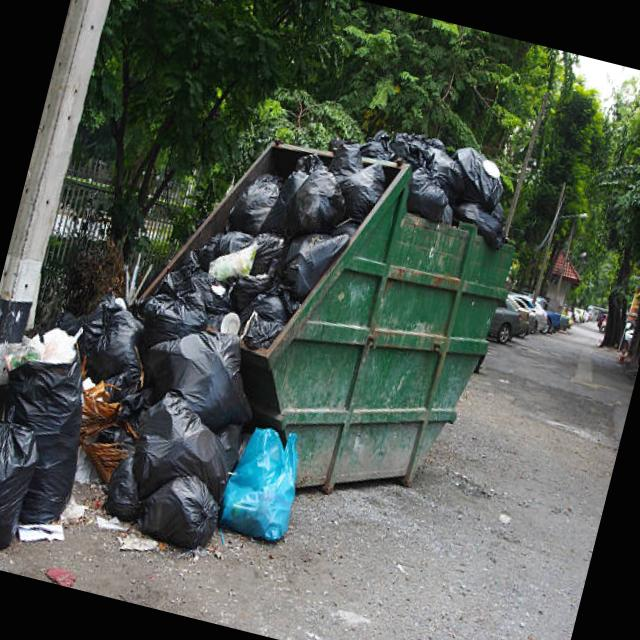garbage: (0, 31, 557, 640)
